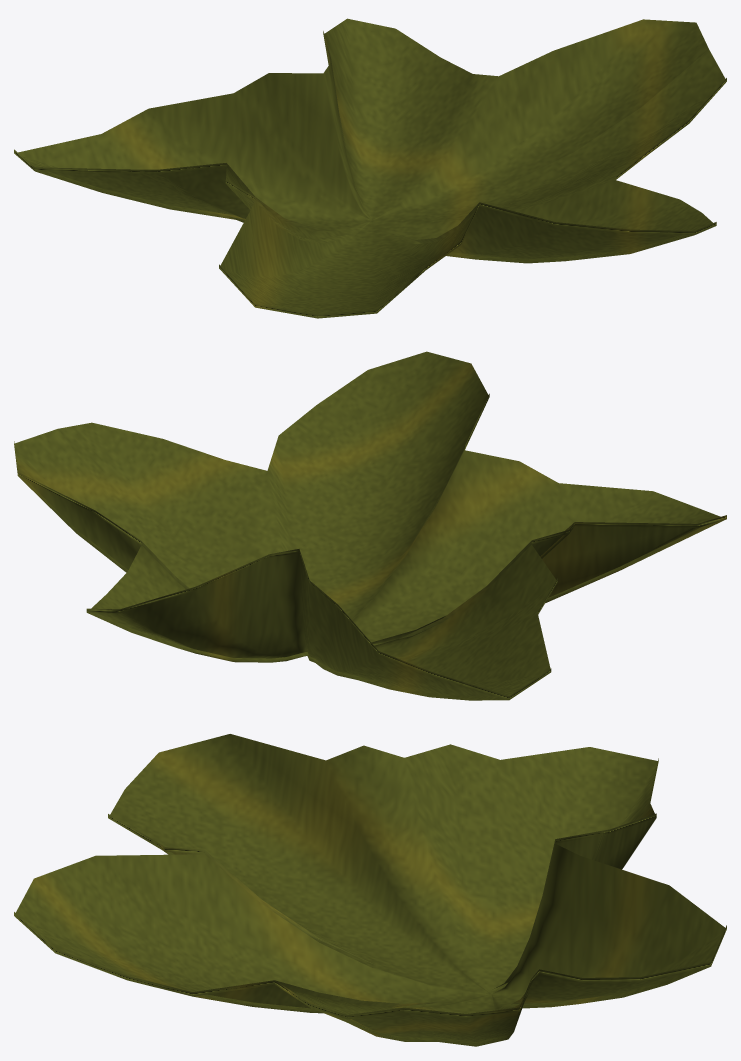
Rendered from leaf-damaged.glb.
The picture shows the model from 3 angles, top to bottom: view 1: azimuth 30°, elevation 25°; view 2: azimuth 150°, elevation 25°; view 3: azimuth 270°, elevation 25°; orthographic projection. The views are drawn at different scales.
Bounding box in the file's own units: 0.6042 × 0.1285 × 0.5716.
Materials: 1 (1 with a texture image).
